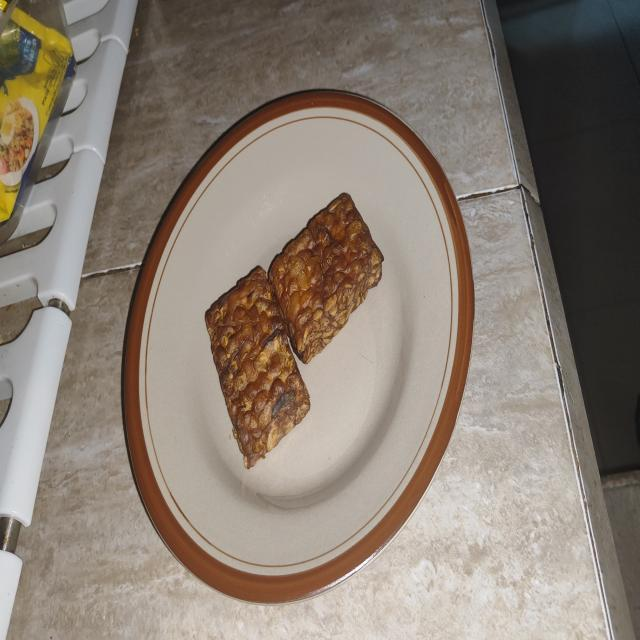tempe_goreng: (206, 266, 310, 468), (268, 194, 384, 364)
